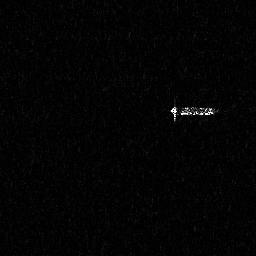ship: (168, 101, 219, 122)
